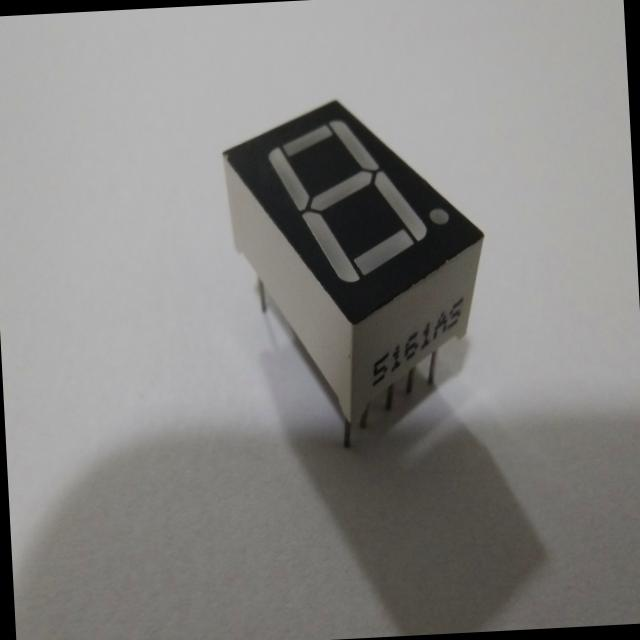7_segments: (216, 84, 501, 454)
